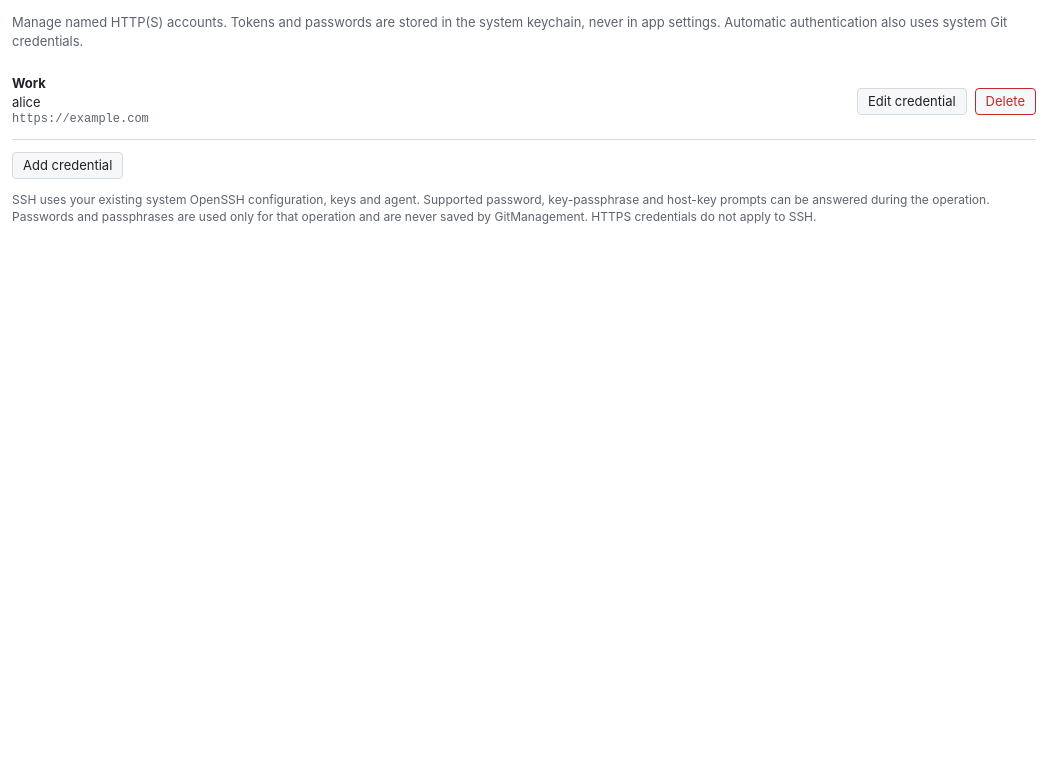
Test: leaves the edit password blank and preserves it through a null secret
This screenshot has width=1048, height=768.
Click the button with aria-label "Edit Work": (912,101) x1=857 y1=88 x2=967 y2=115
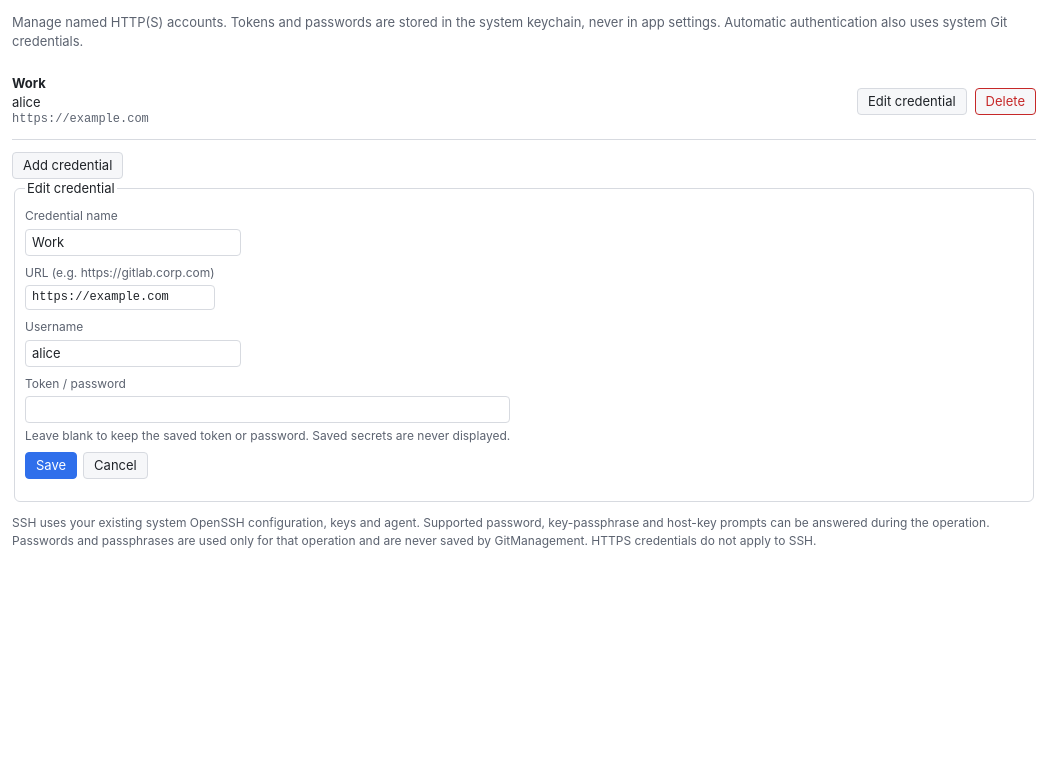
Expected: the password field labelled "Token / password" is empty, x1=25 y1=396 x2=510 y2=423
Replace the text in the field labelled "Credential name" with "Renamed": (133,242) x1=25 y1=229 x2=241 y2=256
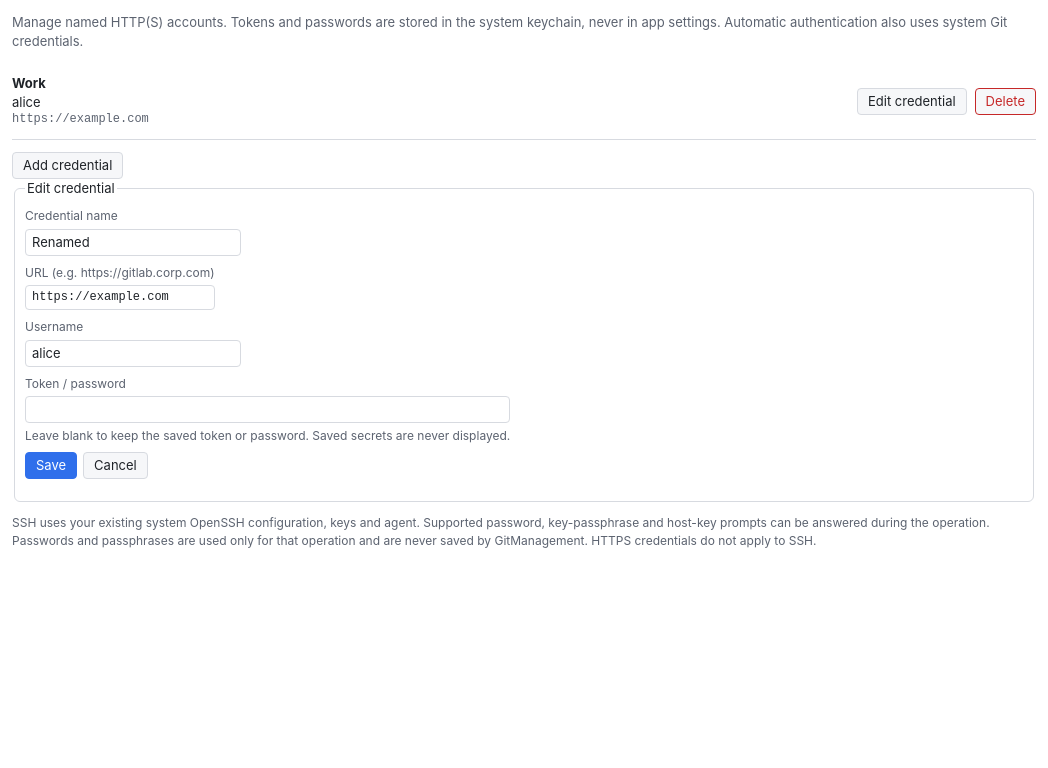
Click the button "Save": (51,466) x1=25 y1=452 x2=77 y2=479
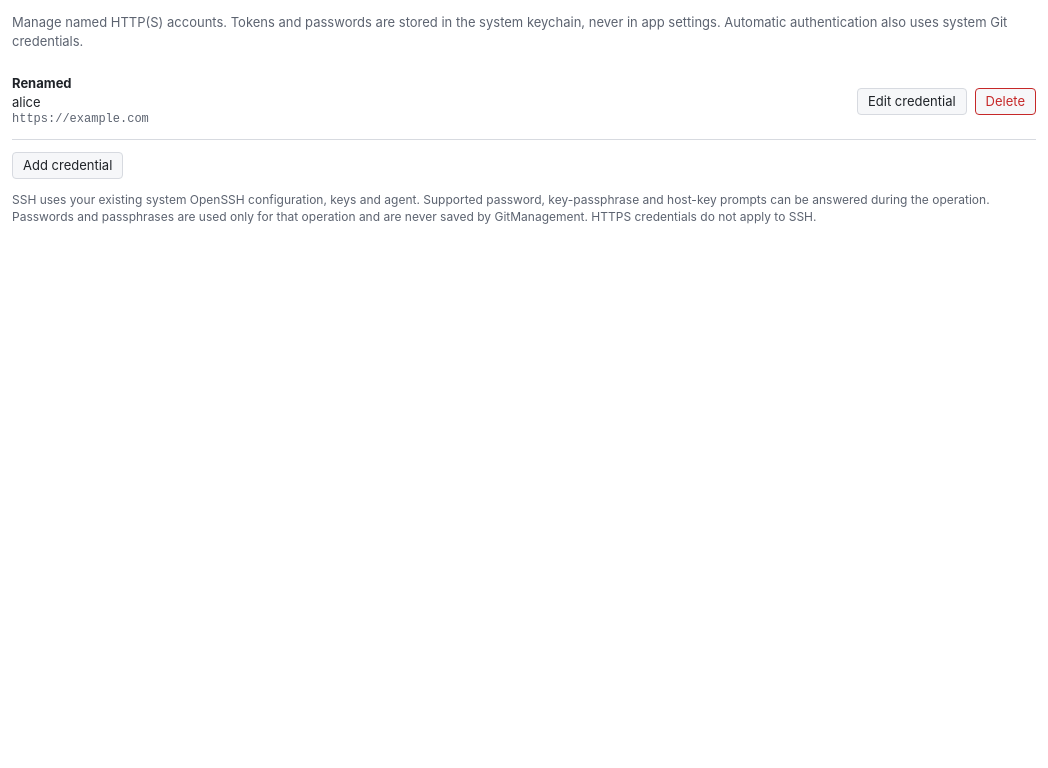
Expected: the text "Renamed" is shown, x1=12 y1=75 x2=72 y2=91
